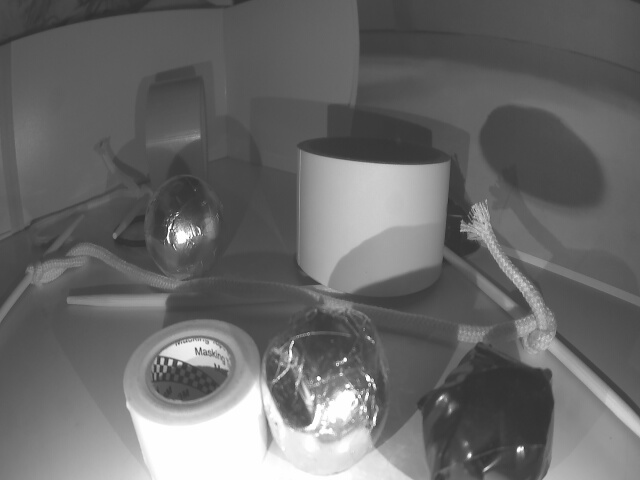Dead: (424, 350, 552, 480)
Live: (265, 310, 387, 471), (147, 176, 218, 277)
